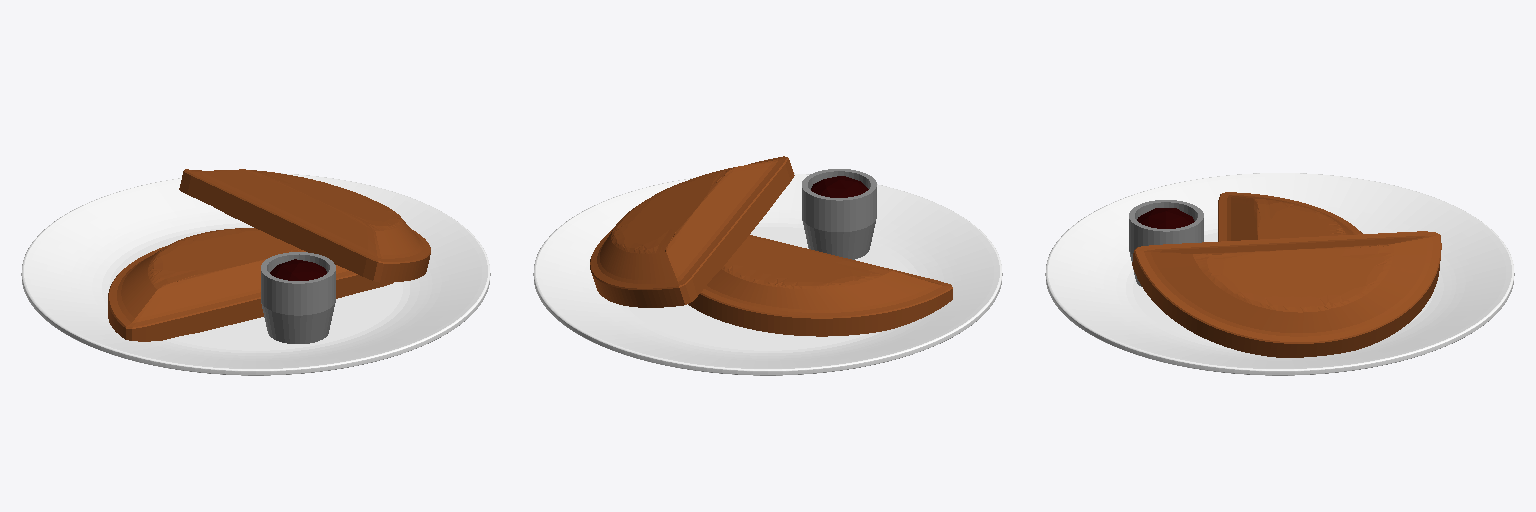
Rendered from Calzone_225.obj.
3 renders of one model, left to right at view 1: azimuth 30°, elevation 25°; view 2: azimuth 150°, elevation 25°; view 3: azimuth 270°, elevation 25°, orthographic.
Visible parts, largest first — view 1: ChamferCyl005, Cylinder001, Cylinder002, Cylinder003, GeoSphere001; view 2: ChamferCyl005, Cylinder002, Cylinder001, Cylinder003, GeoSphere001; view 3: ChamferCyl005, Cylinder002, Cylinder001, Cylinder003, GeoSphere001.
Part boxes in pixels (x1,y1,x2,y2): ChamferCyl005: (21,173,490,375); Cylinder001: (108,228,393,341); Cylinder002: (179,169,430,282); Cylinder003: (261,252,335,343); GeoSphere001: (270,259,326,280); ChamferCyl005: (533,173,1002,375); Cylinder002: (590,156,794,307); Cylinder001: (688,235,952,336); Cylinder003: (802,169,876,259); GeoSphere001: (811,176,868,197); ChamferCyl005: (1045,173,1514,375); Cylinder002: (1132,231,1441,357); Cylinder001: (1218,192,1362,241); Cylinder003: (1129,200,1203,286); GeoSphere001: (1137,208,1194,228).
Bounding box in the file's own units: 78.99 × 14.47 × 78.99.